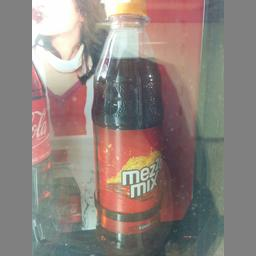soda: (90, 0, 164, 255)
